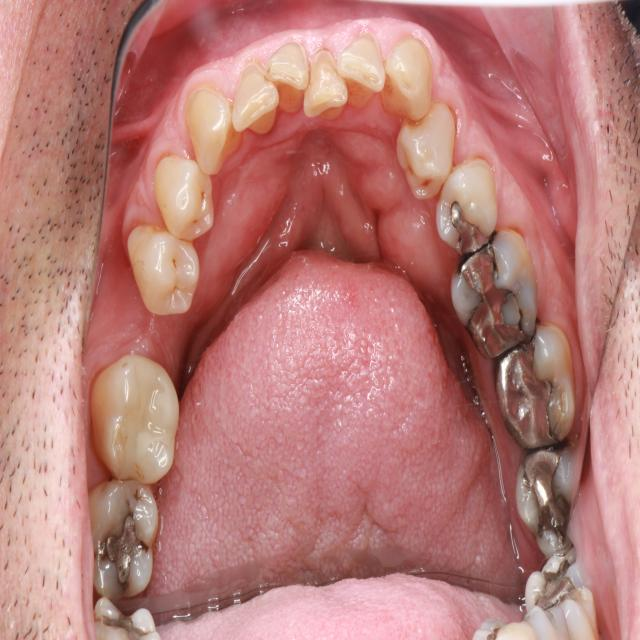tooth: (445, 221, 545, 364), (88, 349, 184, 494), (488, 315, 583, 449), (78, 467, 168, 605), (508, 435, 583, 557), (124, 218, 207, 325), (391, 92, 459, 207), (432, 154, 505, 260), (149, 148, 220, 245), (182, 78, 247, 178), (375, 27, 437, 127), (257, 35, 311, 123), (226, 54, 280, 142), (334, 27, 386, 114), (301, 42, 349, 129)
